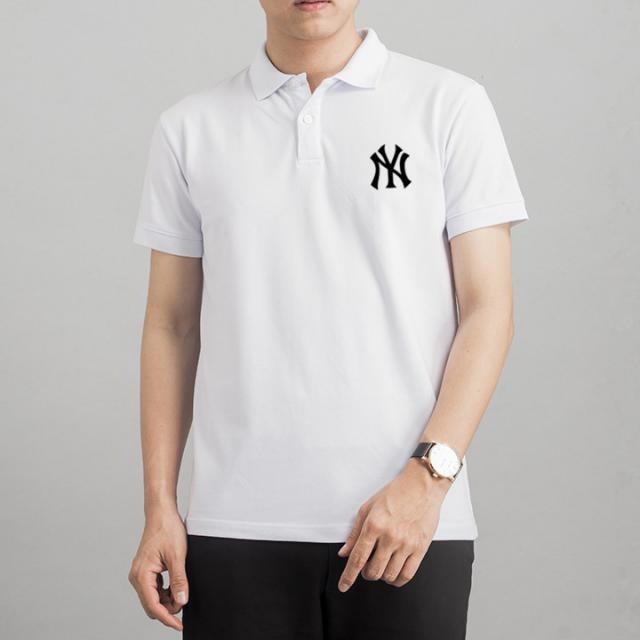Shirt: (120, 28, 532, 542)
